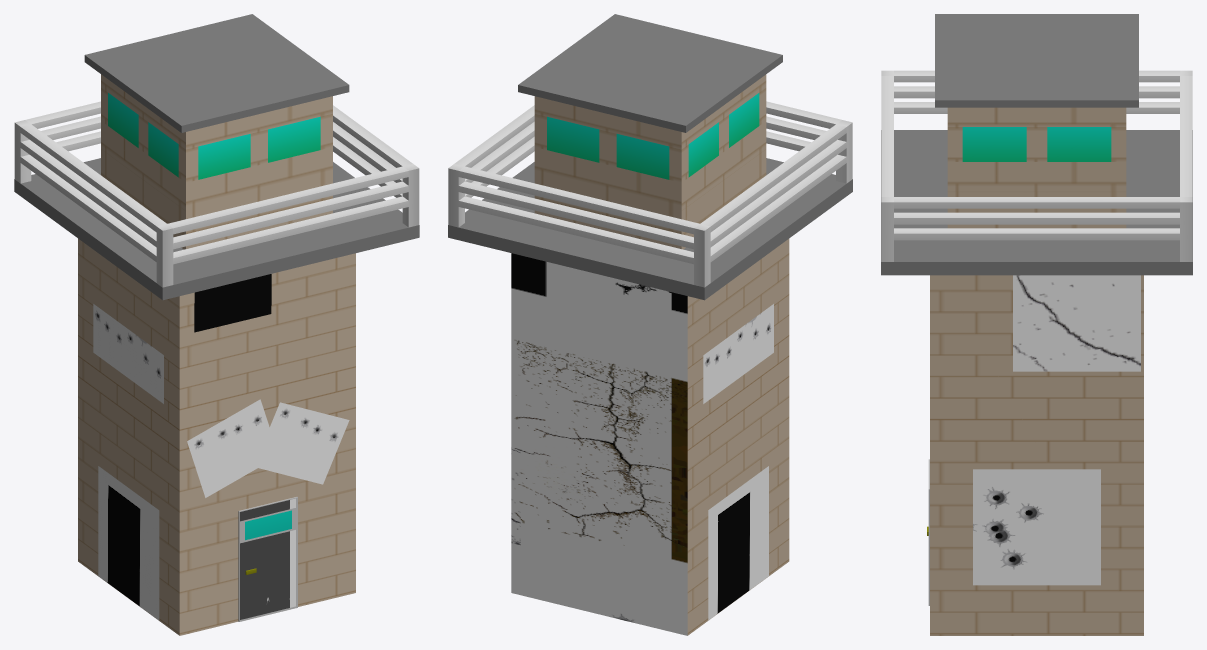
The model's file is SM_Bld_ControlTower_02.fbx.
The picture shows the model from 3 angles, left to right: view 1: azimuth 30°, elevation 25°; view 2: azimuth 150°, elevation 25°; view 3: azimuth 270°, elevation 25°; orthographic projection. The views are drawn at different scales.
Parts seen in each view (by area): view 1: SM_Bld_ControlTower; view 2: SM_Bld_ControlTower; view 3: SM_Bld_ControlTower.
Boxes of the visible parts, box(x1,y1,x2,y2) form: SM_Bld_ControlTower: box(14, 14, 419, 635); SM_Bld_ControlTower: box(448, 14, 852, 635); SM_Bld_ControlTower: box(881, 14, 1192, 635).
Size of the model in its own units: 4.87 by 9.19 by 4.87.
